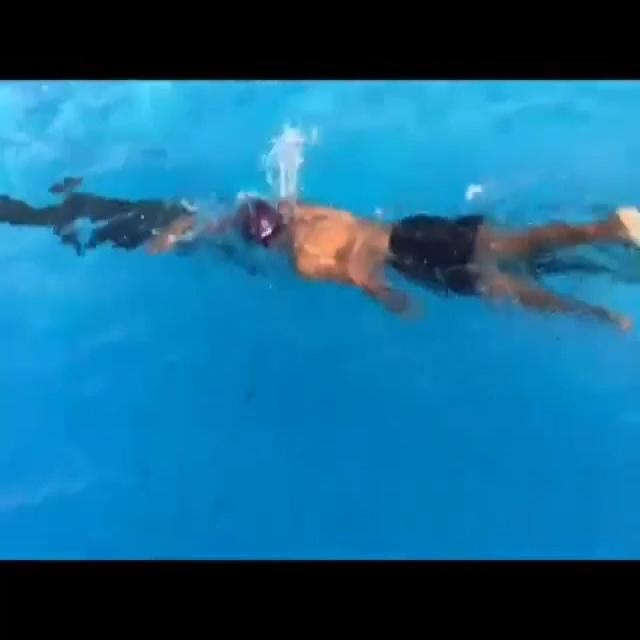Swimming: (137, 175, 639, 332)
